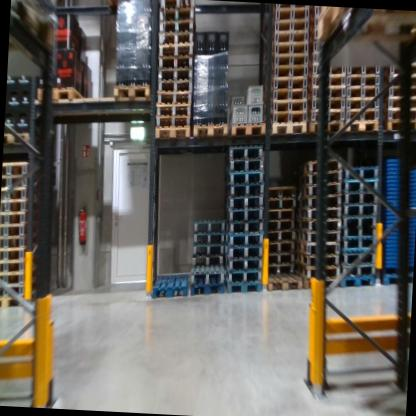pallet: (316, 10, 416, 43), (9, 0, 60, 56), (35, 82, 88, 109), (110, 78, 149, 112), (148, 268, 188, 301), (259, 26, 310, 51), (292, 245, 341, 271), (263, 272, 304, 300), (288, 232, 340, 254), (294, 224, 342, 247), (0, 206, 45, 230), (0, 265, 43, 290), (260, 95, 306, 118), (151, 120, 191, 146), (262, 72, 306, 95), (291, 259, 341, 279), (182, 277, 225, 300), (224, 165, 262, 191), (261, 51, 307, 72), (296, 205, 346, 224), (341, 162, 380, 186), (225, 191, 264, 215), (1, 195, 43, 217), (0, 288, 42, 310), (301, 153, 343, 175), (264, 38, 310, 58), (222, 240, 265, 261), (297, 167, 344, 186), (0, 221, 42, 242), (262, 17, 311, 35), (224, 216, 264, 238), (297, 192, 343, 211), (225, 157, 263, 180), (1, 185, 49, 203), (191, 118, 227, 142), (265, 116, 306, 137), (261, 63, 308, 81), (0, 253, 44, 272), (295, 216, 344, 233), (3, 127, 39, 150), (0, 280, 36, 303), (298, 179, 344, 197), (222, 254, 265, 273), (220, 145, 263, 164), (188, 262, 225, 284), (263, 86, 310, 103), (340, 212, 376, 234), (338, 200, 377, 220), (223, 265, 262, 285), (155, 40, 196, 59), (342, 190, 379, 211), (376, 59, 416, 78), (0, 245, 42, 263), (224, 229, 266, 247), (263, 5, 310, 21), (193, 213, 227, 235), (310, 72, 347, 92), (223, 275, 264, 293), (224, 181, 265, 199), (2, 173, 42, 191), (300, 275, 340, 293), (152, 77, 192, 95), (343, 71, 383, 89), (340, 248, 377, 267), (343, 181, 380, 200), (153, 115, 190, 134), (308, 117, 345, 136), (2, 158, 41, 176), (191, 228, 226, 248), (383, 95, 416, 116), (340, 223, 376, 242), (343, 119, 381, 137), (155, 91, 192, 109), (344, 95, 381, 113), (156, 6, 195, 23), (0, 234, 41, 250), (156, 16, 194, 33), (306, 96, 346, 112), (190, 252, 225, 270), (190, 239, 226, 256), (341, 236, 376, 253), (229, 122, 266, 138), (156, 31, 195, 46), (267, 110, 308, 124), (339, 263, 377, 278), (225, 205, 263, 220), (307, 63, 345, 78), (307, 83, 347, 97), (341, 274, 378, 289), (154, 104, 193, 118), (154, 58, 193, 72), (380, 272, 412, 289), (305, 108, 346, 121), (264, 187, 297, 203), (346, 107, 379, 123), (266, 241, 295, 258), (265, 219, 294, 236), (381, 108, 416, 122), (346, 85, 383, 98), (157, 69, 191, 83), (343, 60, 377, 74), (267, 229, 296, 245), (266, 199, 298, 213), (265, 208, 295, 222), (384, 85, 416, 98), (265, 262, 292, 277), (383, 121, 416, 133), (159, 0, 197, 10), (382, 73, 416, 84), (266, 253, 293, 266), (306, 43, 325, 55), (309, 53, 328, 64), (309, 15, 322, 30), (308, 29, 321, 41)
